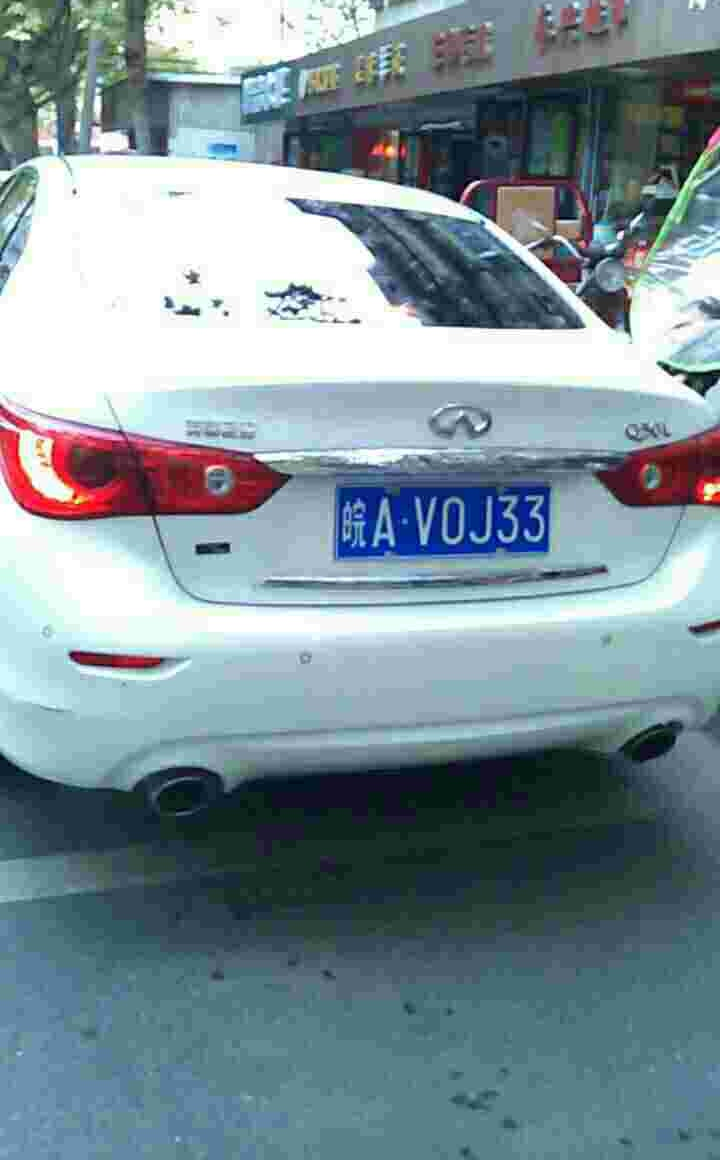license_plate: (333, 472, 548, 556)
